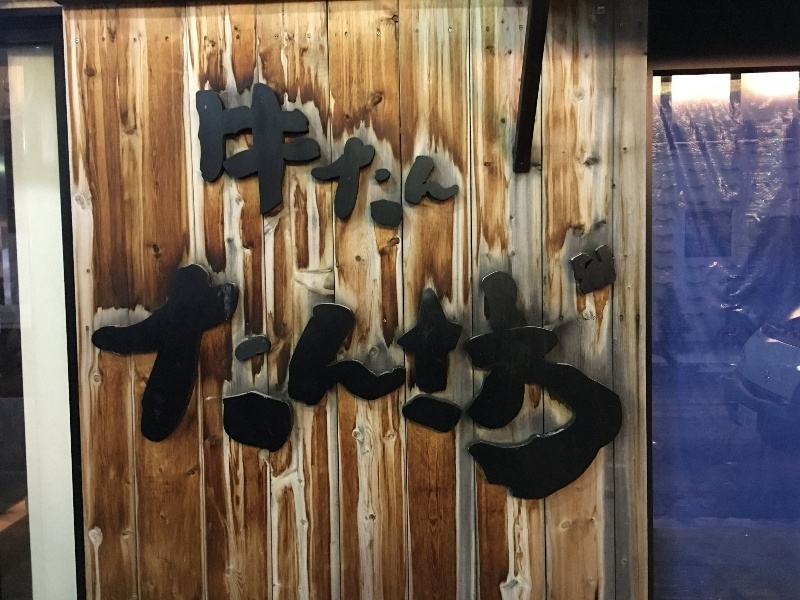text: (97, 246, 112, 505), (113, 246, 128, 505), (129, 246, 144, 505), (145, 246, 160, 505), (161, 246, 176, 505), (177, 246, 192, 505), (193, 246, 208, 505), (209, 246, 224, 505), (225, 246, 240, 505), (241, 246, 256, 505), (257, 246, 272, 505), (273, 246, 288, 505), (289, 246, 304, 505), (305, 246, 320, 505), (321, 246, 336, 505), (337, 246, 352, 505), (353, 246, 368, 505), (369, 246, 384, 505), (385, 246, 400, 505), (401, 246, 416, 505), (417, 246, 432, 505), (433, 246, 448, 505), (449, 246, 464, 505), (465, 246, 480, 505), (481, 246, 496, 505), (497, 246, 512, 505), (513, 246, 528, 505), (529, 246, 544, 505), (545, 246, 560, 505), (561, 246, 576, 505), (577, 246, 592, 505), (593, 246, 608, 505), (609, 246, 624, 505), (193, 77, 208, 230), (209, 77, 224, 230), (225, 77, 240, 230), (241, 77, 256, 230), (257, 77, 272, 230), (273, 77, 288, 230), (289, 77, 304, 230), (305, 77, 320, 230), (321, 77, 336, 230), (337, 77, 352, 230), (353, 77, 368, 230), (369, 77, 384, 230), (385, 77, 400, 230), (401, 77, 416, 230), (417, 77, 432, 230), (433, 77, 448, 230), (449, 77, 464, 230), (91, 246, 96, 505), (465, 77, 470, 230), (625, 246, 627, 505)
